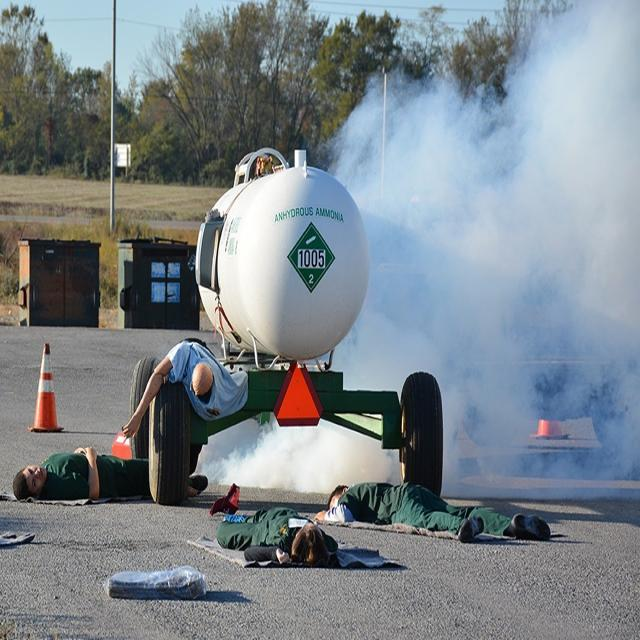Smoke: (313, 0, 640, 501), (200, 414, 402, 499)
